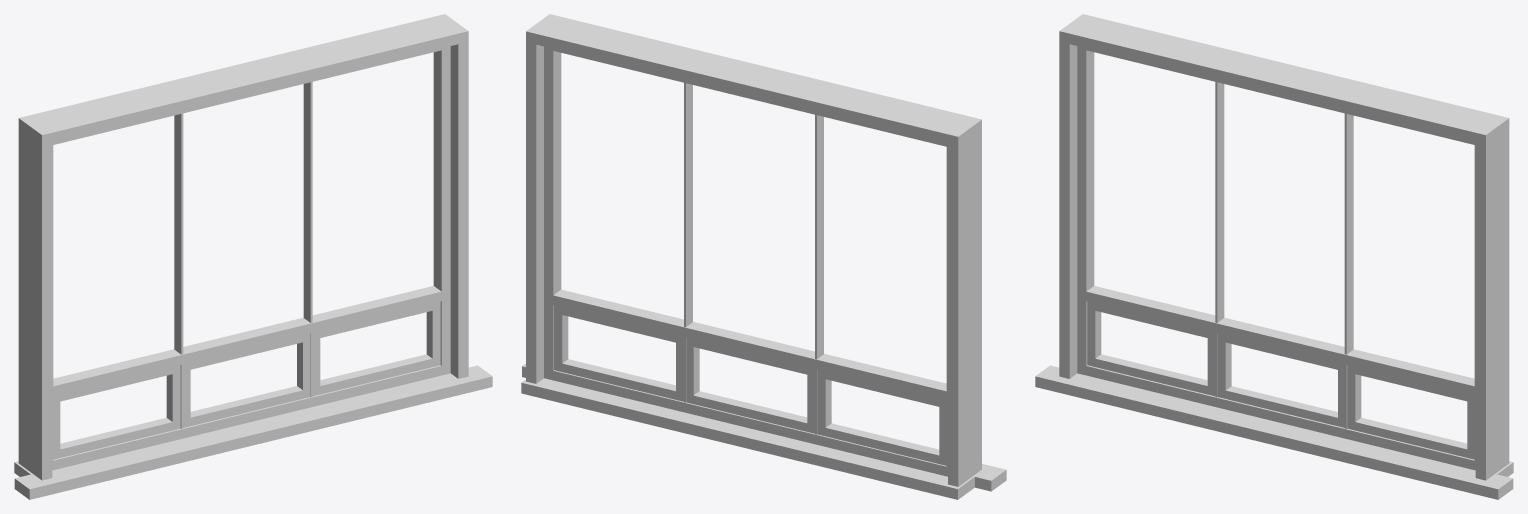
File: Window5_03.fbx
3 renders of one model, left to right at view 1: azimuth 30°, elevation 25°; view 2: azimuth 150°, elevation 25°; view 3: azimuth 330°, elevation 25°, orthographic.
Parts seen in each view (by area): view 1: Window5_03; view 2: Window5_03; view 3: Window5_03.
Part boxes in pixels (x1,y1,x2,y2): Window5_03: [14, 14, 492, 499]; Window5_03: [521, 14, 1006, 499]; Window5_03: [1035, 14, 1513, 499].
Bounding box in the file's own units: 228 × 168 × 27.
